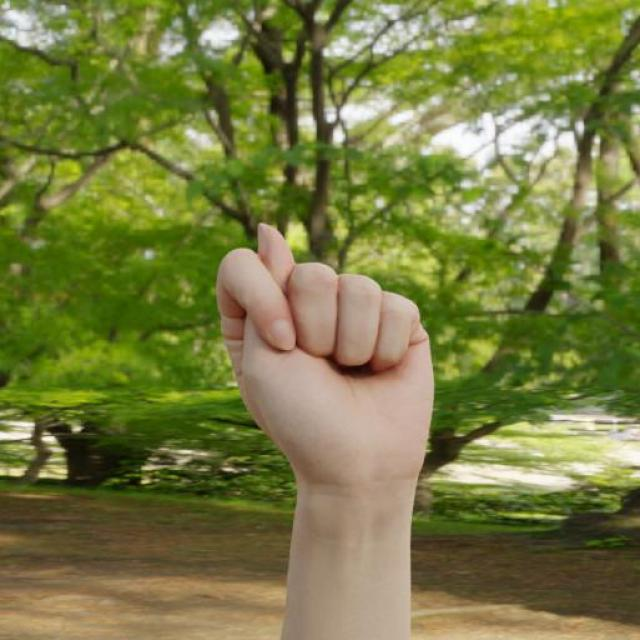T: (212, 220, 437, 498)
